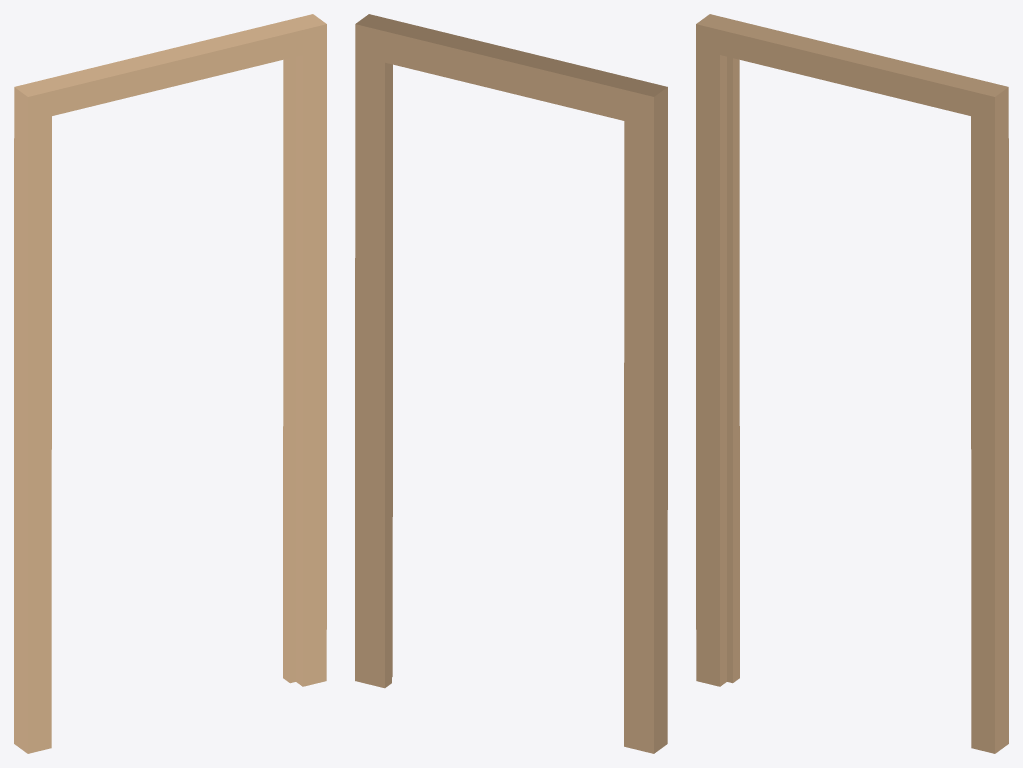
File: FP406:DoorFrame_001_8b0b2854.obj
The picture shows the model from 3 angles, left to right: view 1: azimuth 30°, elevation 25°; view 2: azimuth 150°, elevation 25°; view 3: azimuth 330°, elevation 25°; orthographic projection.
Visible parts, largest first — view 1: FP406:DoorFrame.001_8b0b2854; view 2: FP406:DoorFrame.001_8b0b2854; view 3: FP406:DoorFrame.001_8b0b2854.
Boxes of the visible parts, x1,y1,x2,y2 form: FP406:DoorFrame.001_8b0b2854: [14, 14, 326, 753]; FP406:DoorFrame.001_8b0b2854: [355, 14, 667, 753]; FP406:DoorFrame.001_8b0b2854: [696, 14, 1008, 753].
Size of the model in its own units: 1 by 2.1 by 0.0807.
